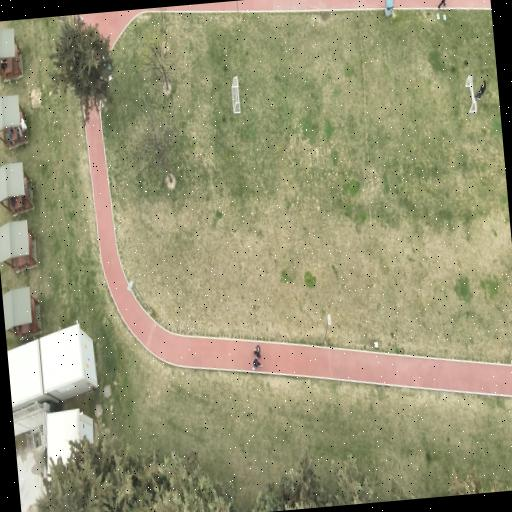person: (475, 81, 485, 99), (252, 358, 261, 370), (253, 345, 260, 358), (19, 117, 25, 131), (0, 59, 6, 70), (437, 0, 445, 8)
